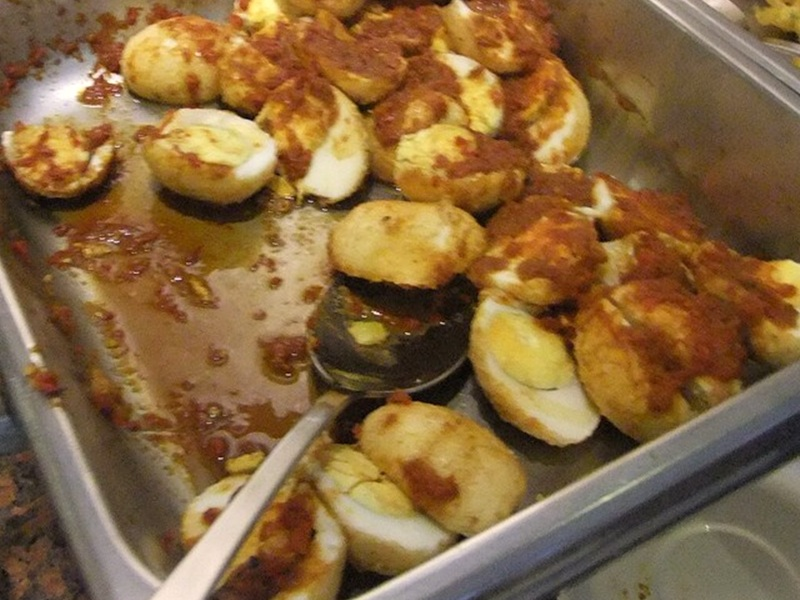Telur Balado: (8, 6, 649, 560)
